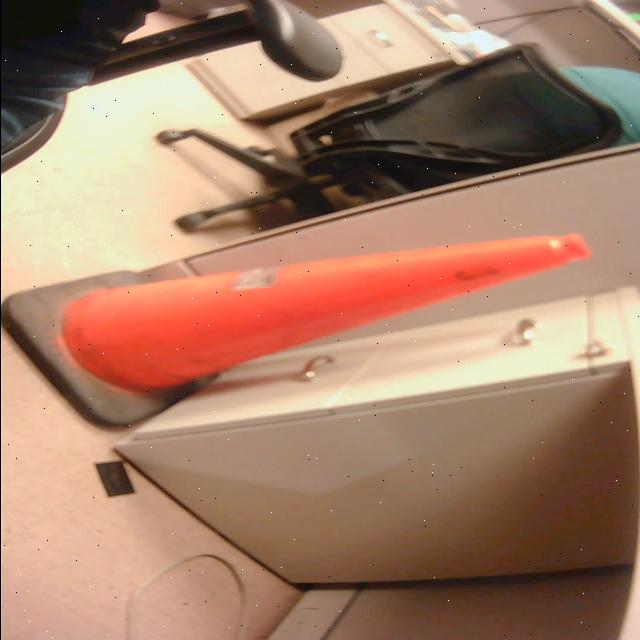traffic cone: (1, 232, 592, 442)
